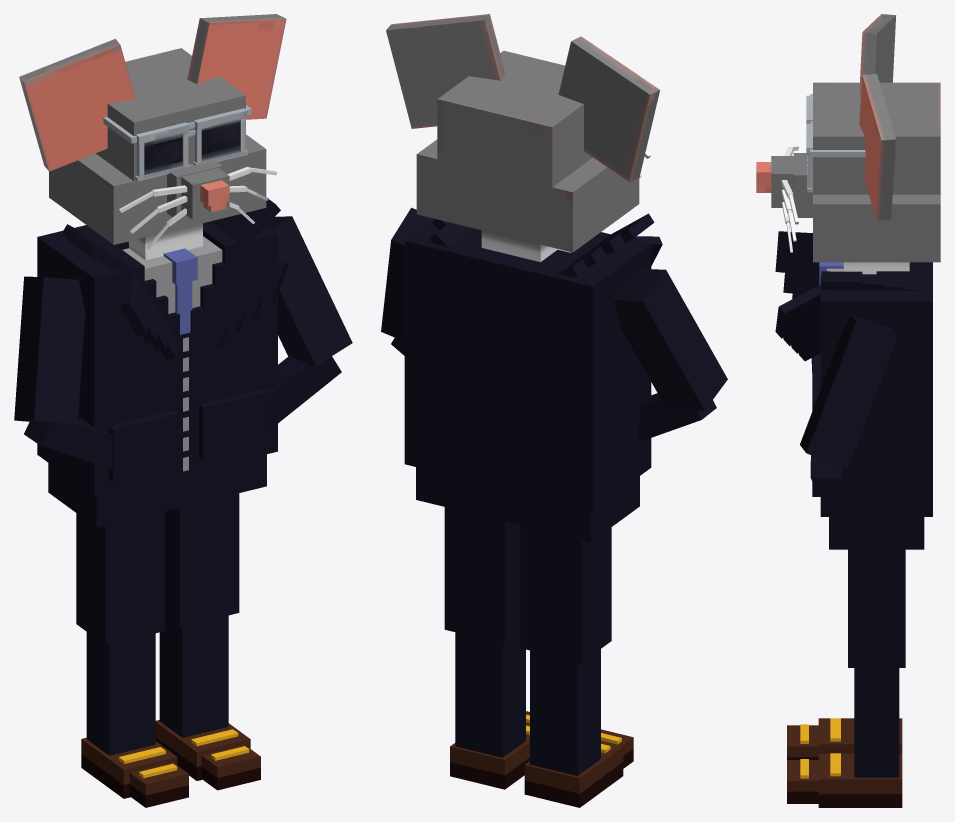
Rendered from timCheese.fbx.
3 renders of one model, left to right at view 1: azimuth 30°, elevation 25°; view 2: azimuth 150°, elevation 25°; view 3: azimuth 270°, elevation 25°, orthographic. The views are drawn at different scales.
Visible parts, largest first — view 1: timCheese; view 2: timCheese; view 3: timCheese.
Part boxes in pixels (left/top/right/bottom): timCheese: left=14, top=14, right=352, bottom=807; timCheese: left=381, top=14, right=727, bottom=807; timCheese: left=756, top=14, right=940, bottom=807.
Bounding box in the file's own units: 290 × 637 × 147.
